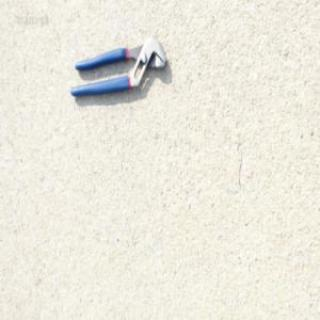Pliertrack_idkeyframe: (69, 35, 168, 100)
